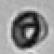correct: (8, 8, 53, 50)
